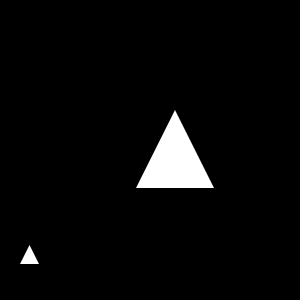triangle: (136, 110, 214, 188), (20, 245, 39, 264)
